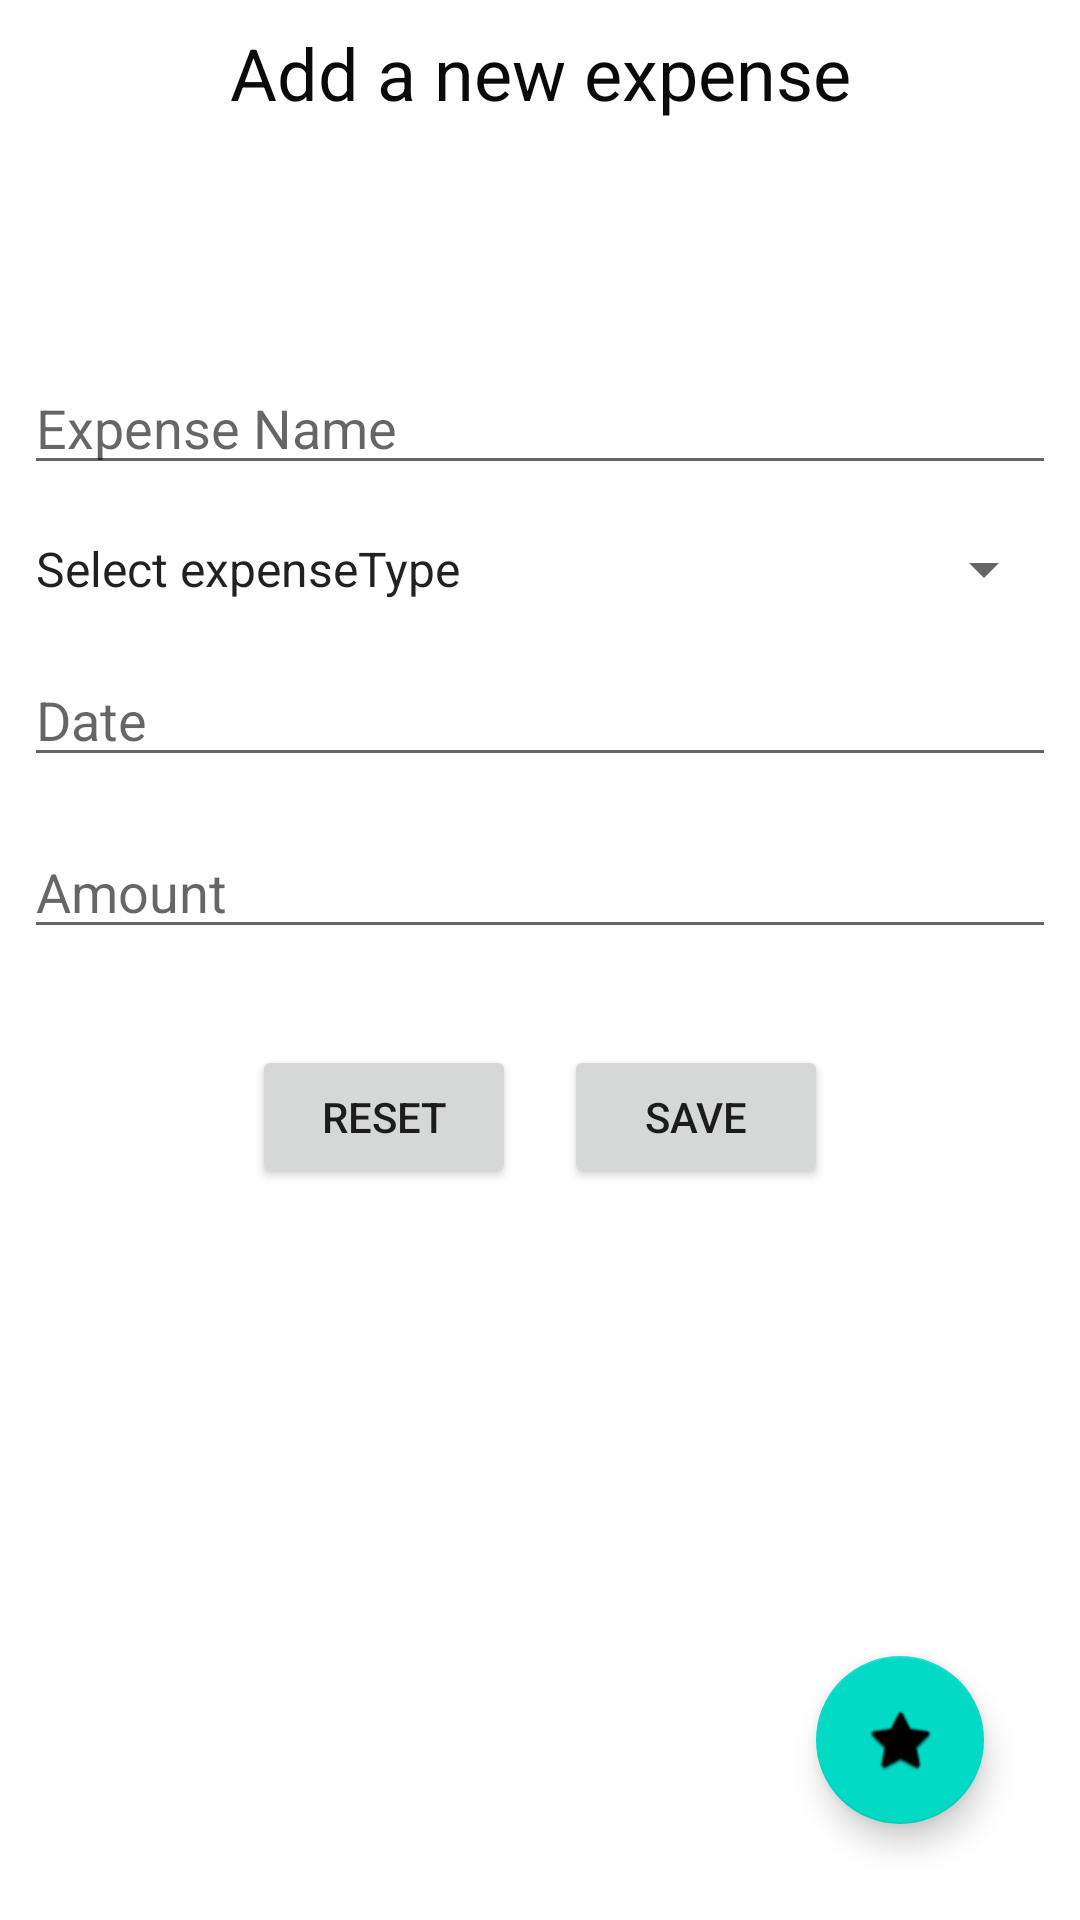

Icon click points for this 1080*1920 phone screenshot, format (x,y):
star on: (900,1740)
